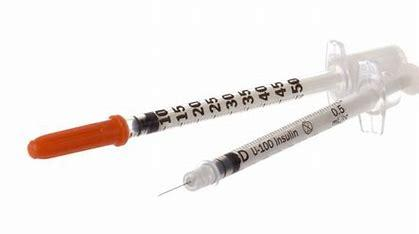Syringe: (22, 35, 413, 201)
